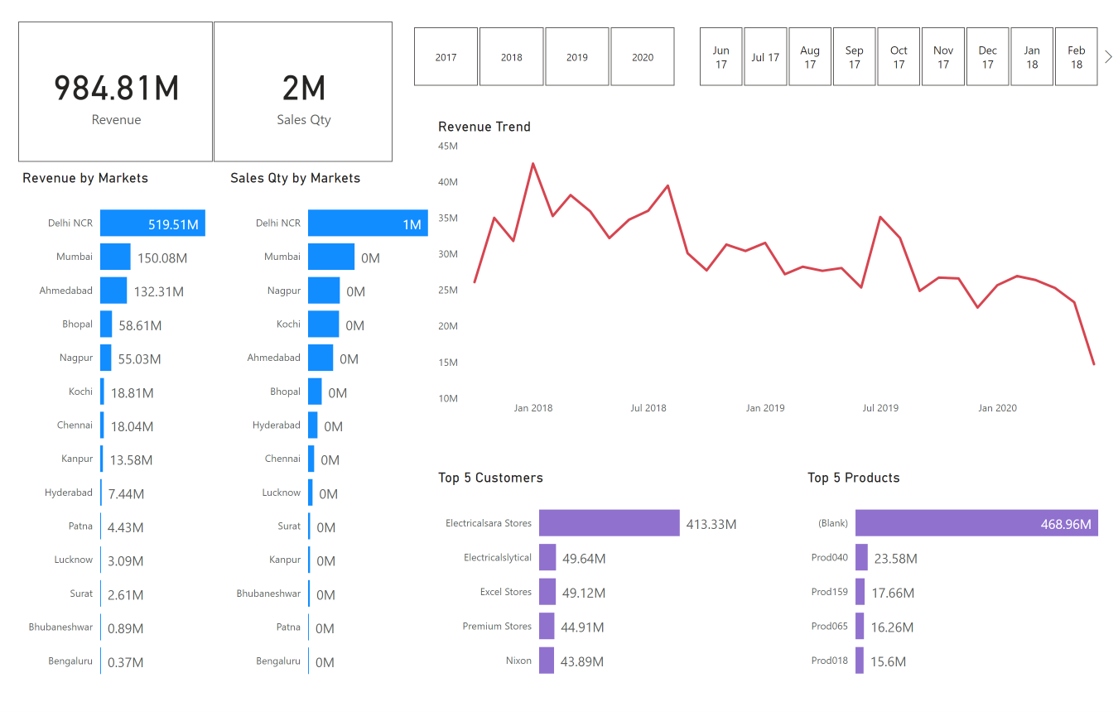

The dashboard page shown, as its layout file describes it:
{"tool":"powerbi","page":{"name":"Page 1","canvas":[1350,850],"ordinal":0},"visuals":[{"type":"card","fields":{"Values":["BaseMeasures.Sales Qty"]},"box":[257.6,25.9,216.1,169.4],"z":0},{"type":"card","fields":{"Values":["BaseMeasures.Revenue"]},"box":[22.5,25.9,235.1,169.4],"z":1000},{"type":"barChart","title":"Revenue by Markets","fields":{"Y":["BaseMeasures.Revenue"],"Category":["sales markets.markets_name"]},"box":[22.5,205.3,250.6,630.9],"z":2000},{"type":"barChart","title":"Sales Qty by Markets","fields":{"Y":["BaseMeasures.Sales Qty"],"Category":["sales markets.markets_name"]},"box":[273.1,205.3,250.6,630.9],"z":3000},{"type":"slicer","fields":{"Values":["sales date.year"]},"box":[475,26.7,363.3,83.3],"z":4000},{"type":"slicer","fields":{"Values":["sales date.cy_date"]},"box":[819.3,25.9,530.7,84.7],"z":5000},{"type":"barChart","title":"Top 5 Customers","fields":{"Y":["BaseMeasures.Revenue"],"Category":["sales customers.custmer_name"]},"box":[523.8,567,378.6,269.7],"z":6000},{"type":"barChart","title":"Top 5 Products","fields":{"Y":["BaseMeasures.Revenue"],"Category":["sales products.product_code"]},"box":[969.7,567,380.3,269.7],"z":7000},{"type":"lineChart","title":"Revenue Trend","fields":{"Y":["BaseMeasures.Revenue"],"Category":["sales date.cy_date"]},"box":[523.8,143.5,826.2,368.2],"z":8000}]}

Visuals, with their boxes in screenshot pixels (x1, y1, x2, y2), scaled from the page's 1350x850 canvas onto the 1118x712 screenshot:
card - BaseMeasures.Sales Qty: 213, 22, 392, 164
card - BaseMeasures.Revenue: 19, 22, 213, 164
"Revenue by Markets" barChart: 19, 172, 226, 700
"Sales Qty by Markets" barChart: 226, 172, 434, 700
slicer - sales date.year: 393, 22, 694, 92
slicer - sales date.cy_date: 679, 22, 1117, 93
"Top 5 Customers" barChart: 434, 475, 747, 701
"Top 5 Products" barChart: 803, 475, 1117, 701
"Revenue Trend" lineChart: 434, 120, 1117, 429
